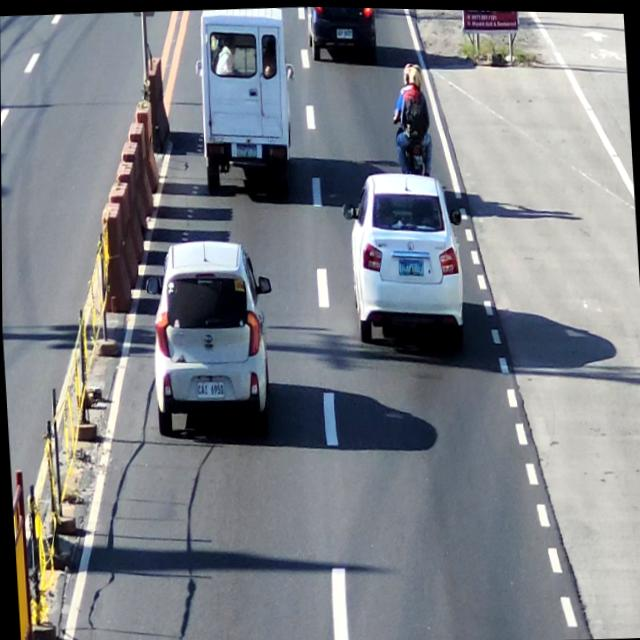Car: (146, 231, 280, 442), (344, 166, 468, 354), (196, 5, 296, 189), (305, 5, 380, 59)
License-Plate: (396, 245, 428, 280), (194, 374, 226, 404), (232, 141, 260, 160), (335, 22, 357, 41)
Motorcycle: (385, 60, 438, 174)
